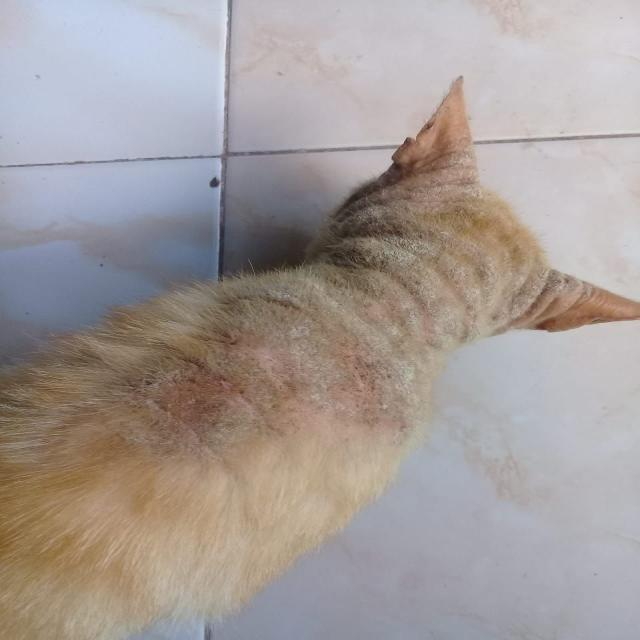cat-scabies: (105, 325, 414, 478), (335, 209, 549, 338)
